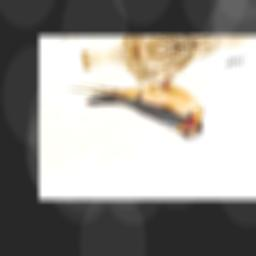Swallow: (66, 63, 210, 158)
